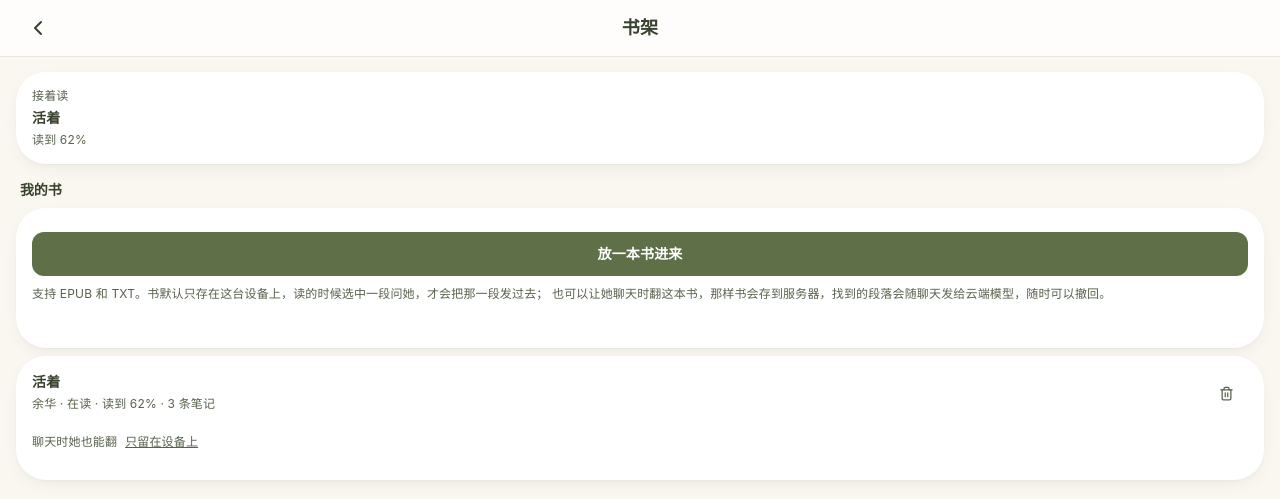
it: 书架合并：让她聊天时也能翻你的书 › 「只留在设备上」撤回上传
Click the button "只留在设备上" at (162, 442), box [125,420,198,464]
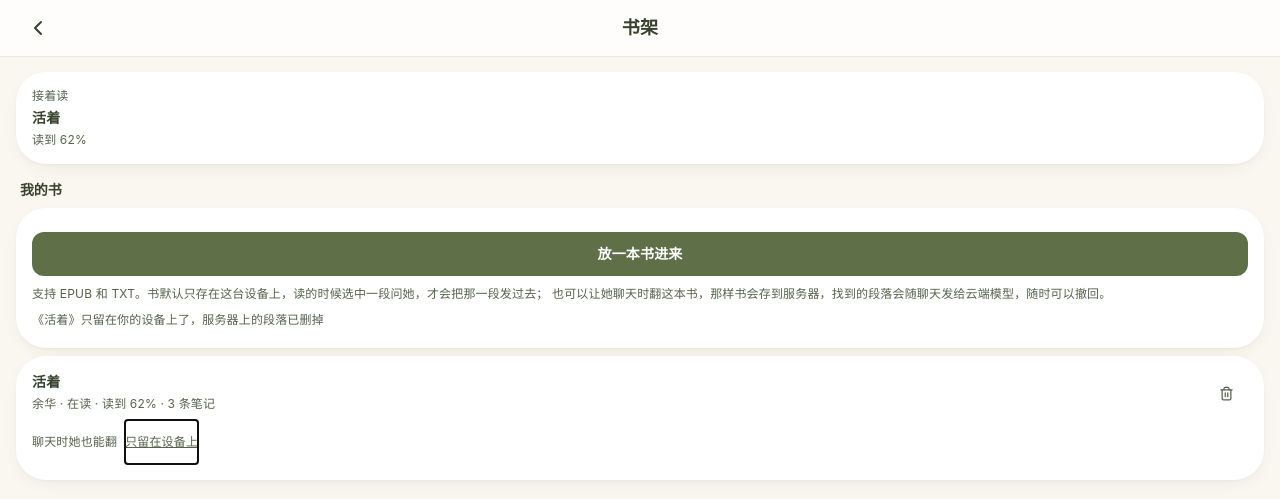
Now the text "《活着》只留在你的设备上了，服务器上的段落已删掉" is shown, box [32,312,324,326]
